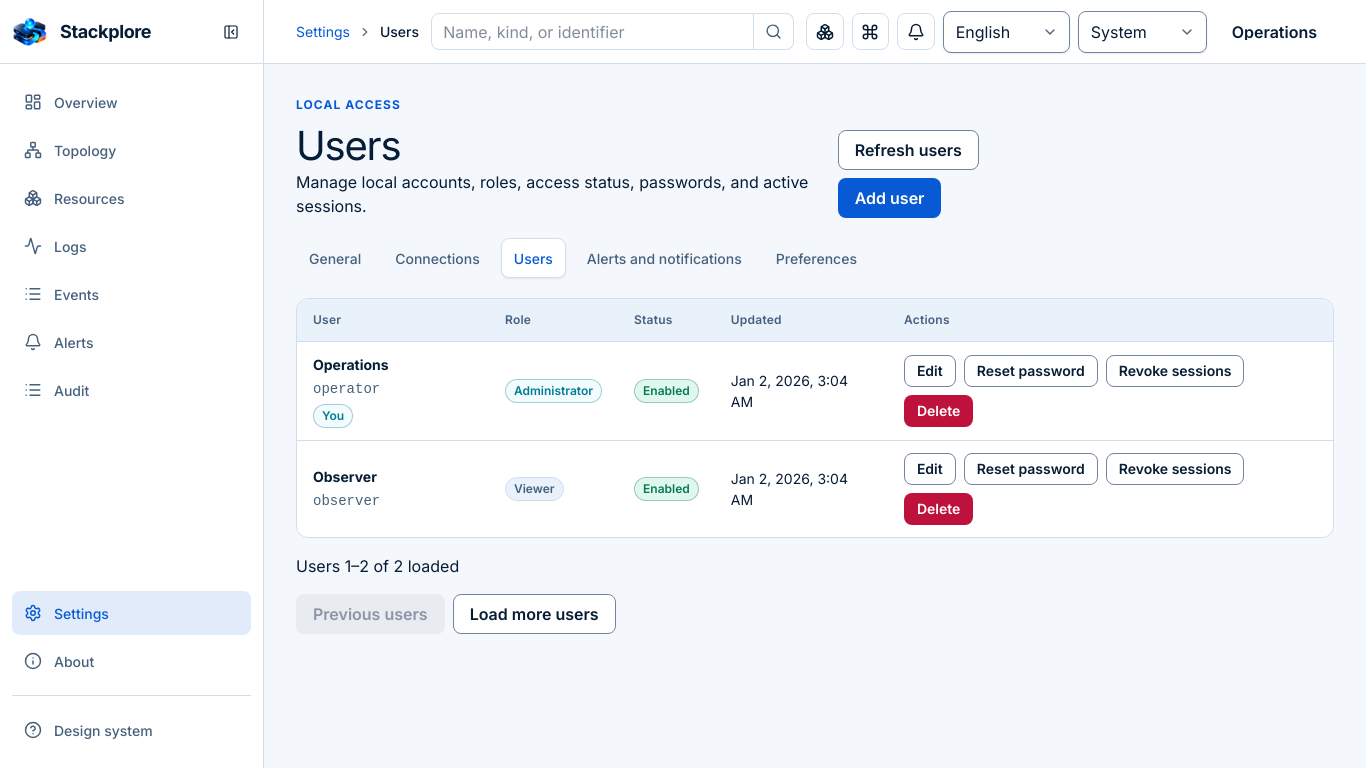
Test case: user administration flow › aborts an old next-page read and ignores its late authorization failure after refresh
Check: the text "Observer" is shown, box [313,466,377,487]
Click the button "Load more users": (534, 614) [453,594,616,634]
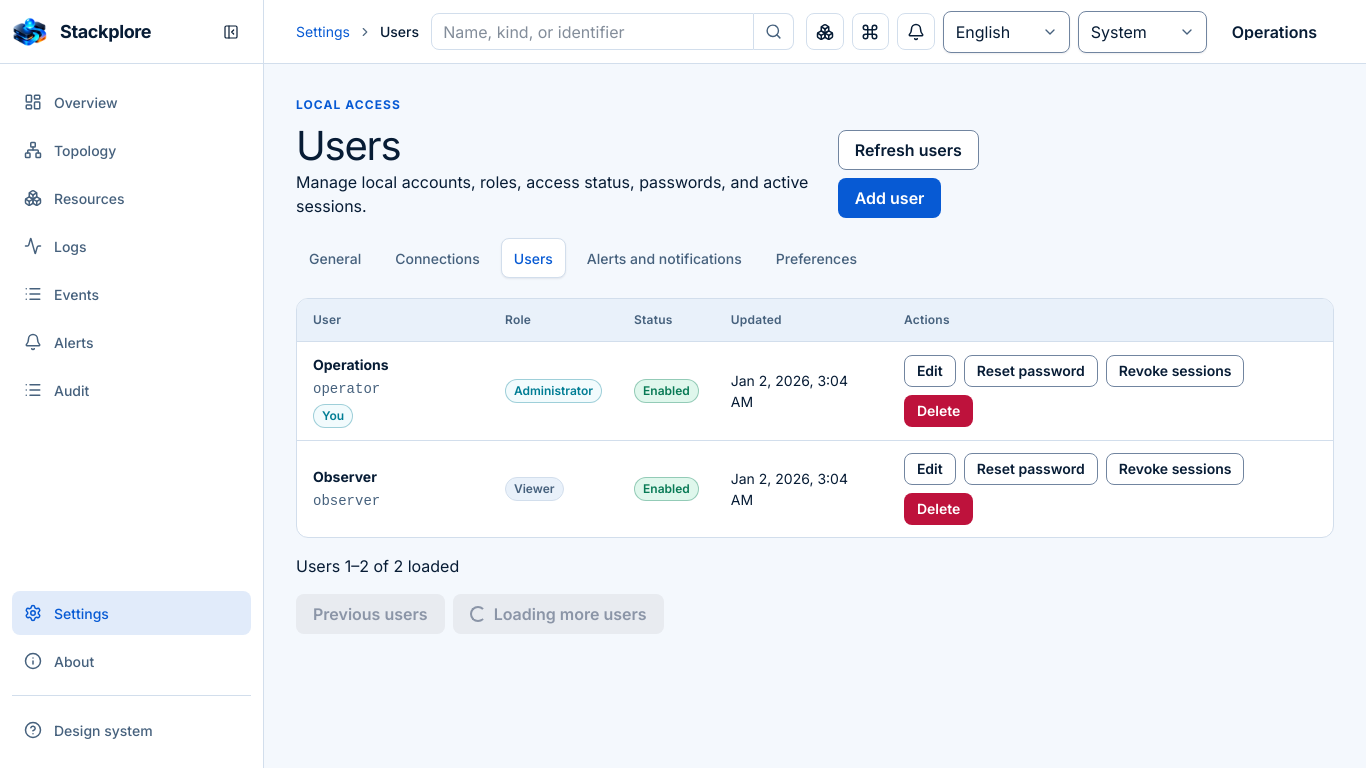
Click the button "Refresh users": (908, 150) [838,130,979,170]
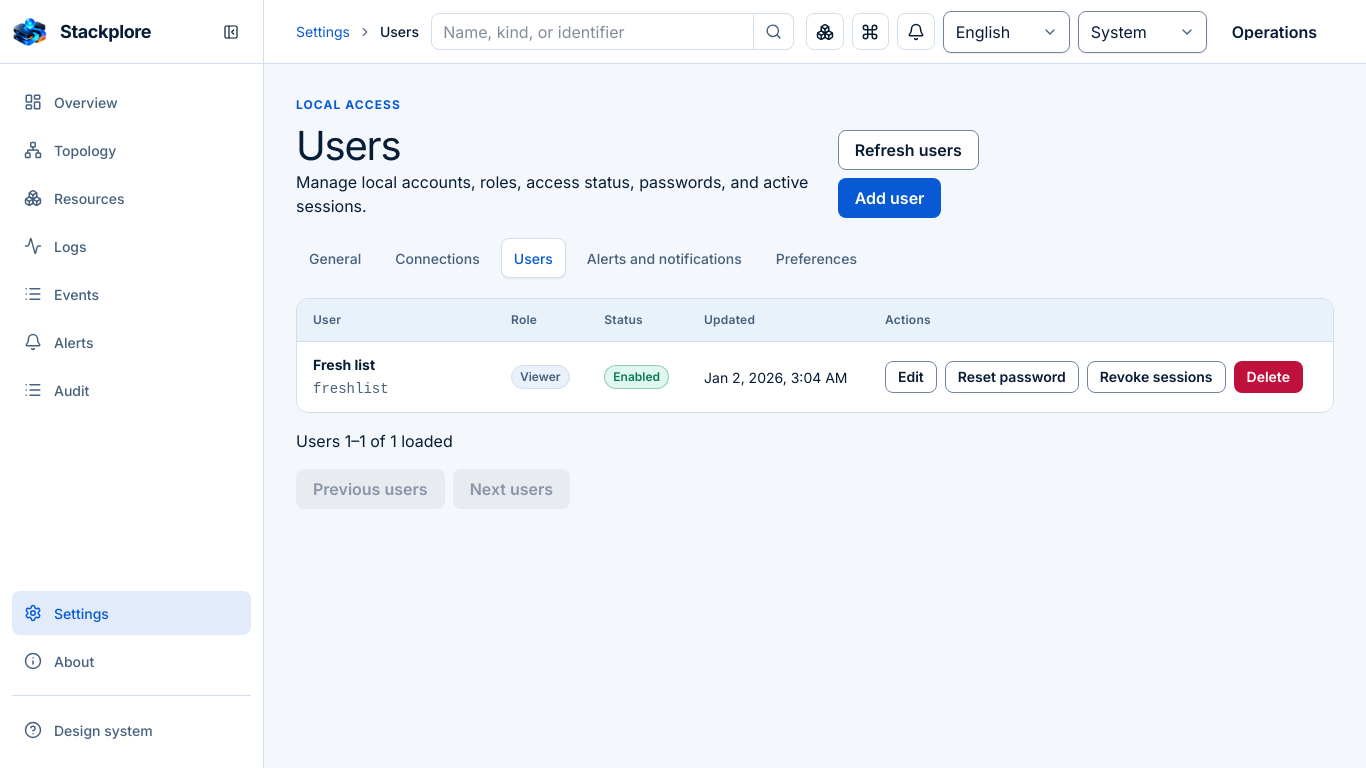
Check: the text "Fresh list" is shown, box [313,354,375,375]
